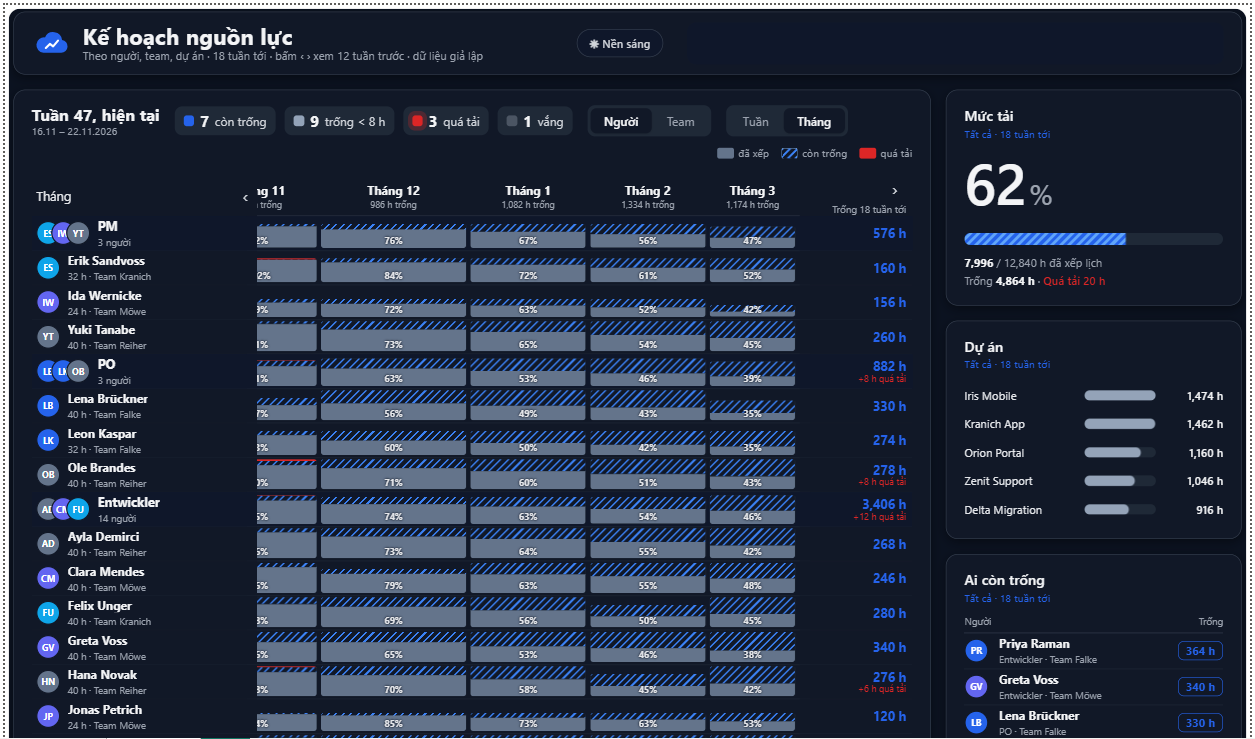

The dashboard page shown, as its layout file describes it:
{"tool":"powerbi","page":{"name":"Page 1","canvas":[1660,1720],"ordinal":0},"visuals":[{"type":"htmlContent443BE3AD55E043BF878BED274D3A6855","fields":{"content":["_Measure.HTML Ressourcenplanung"]},"box":[0,0,1660,1720],"z":0}]}

Visuals, with their boxes in screenshot pixels (x1, y1, x2, y2):
htmlContent443BE3AD55E043BF878BED274D3A6855 - _Measure.HTML Ressourcenplanung: box=[539, 3, 1242, 732]
